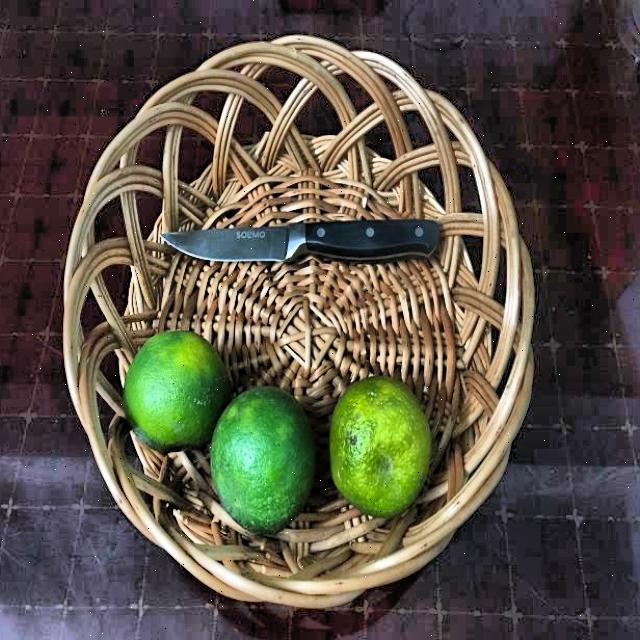knife: (159, 210, 448, 271)
